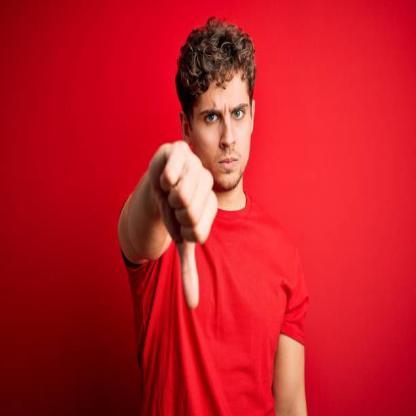thumb_down: (150, 135, 219, 314)
